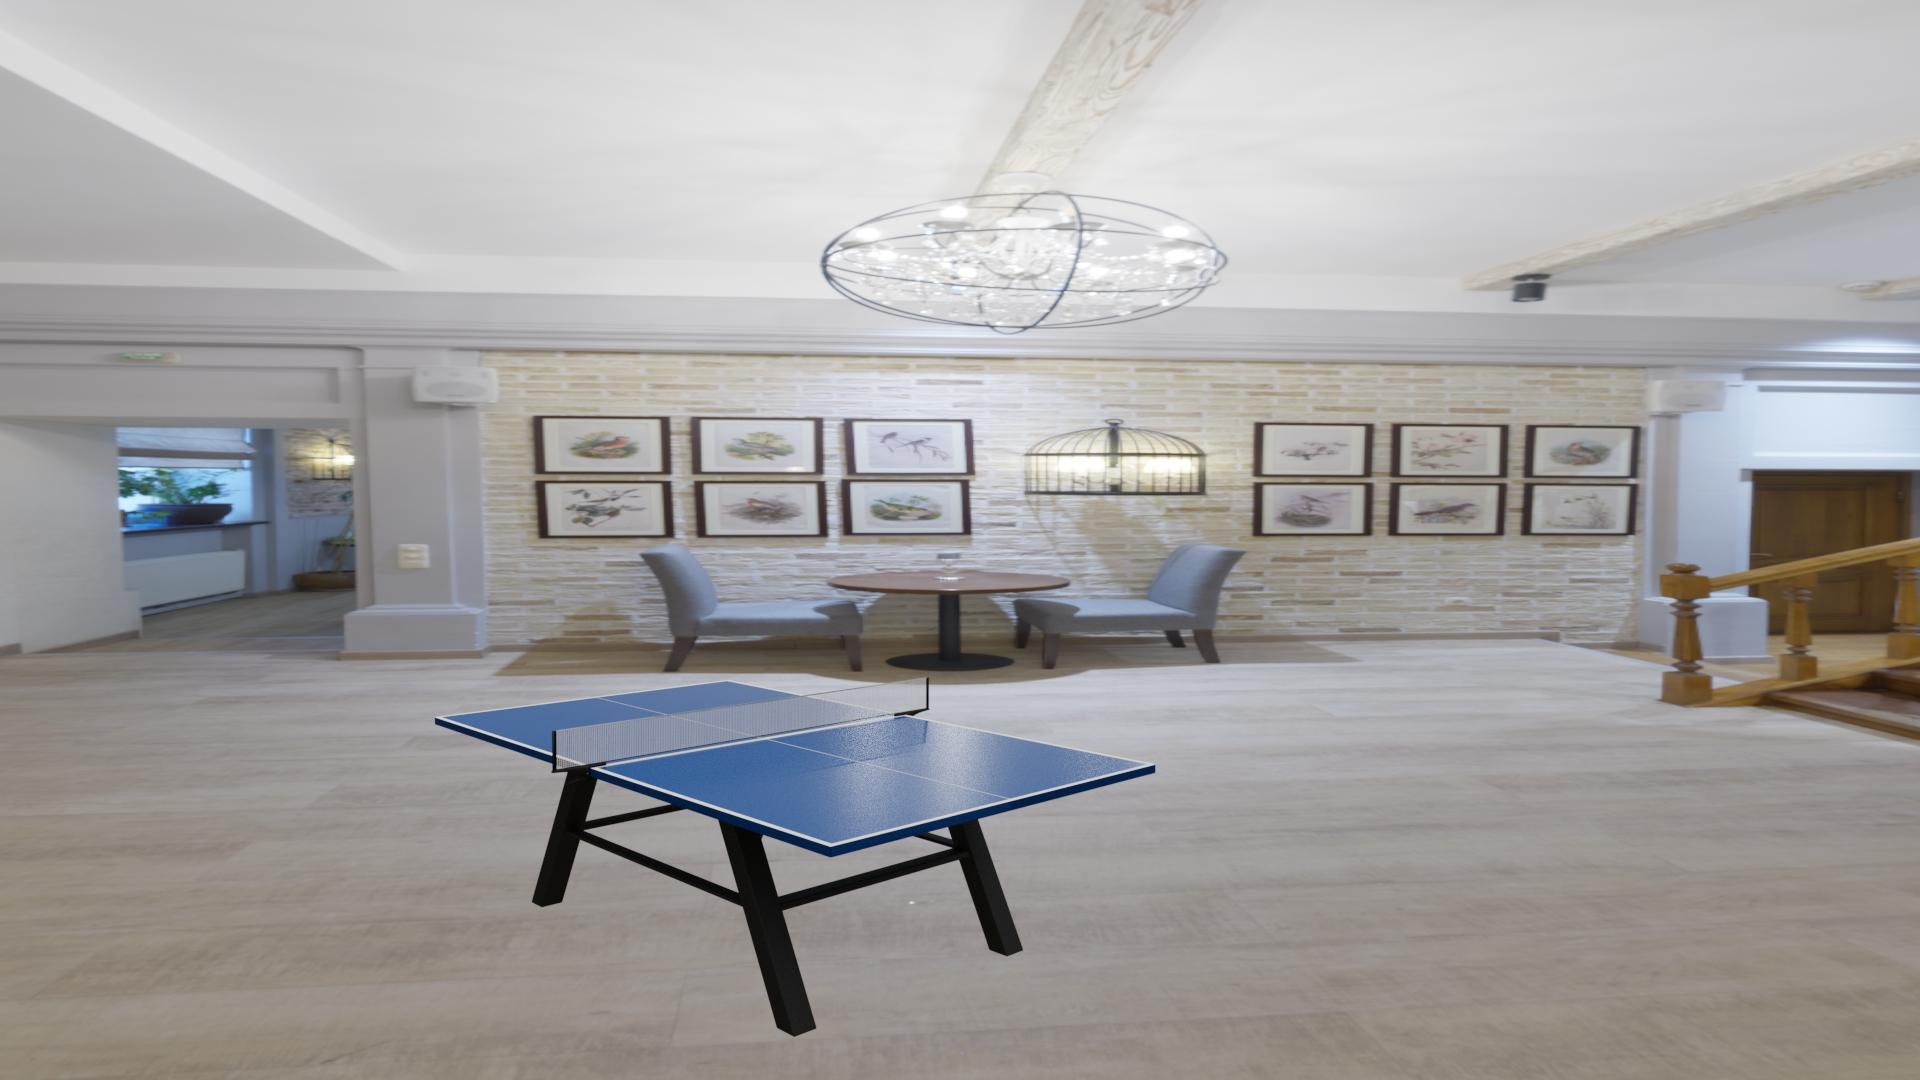table: (440, 680, 1149, 844)
